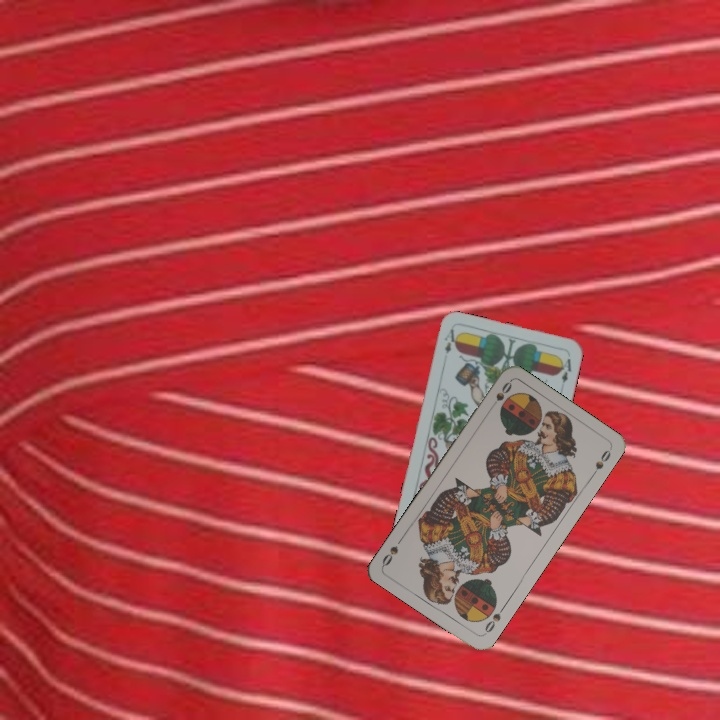EA: (440, 325, 459, 356)
SO: (485, 377, 515, 413), (480, 601, 508, 637)
